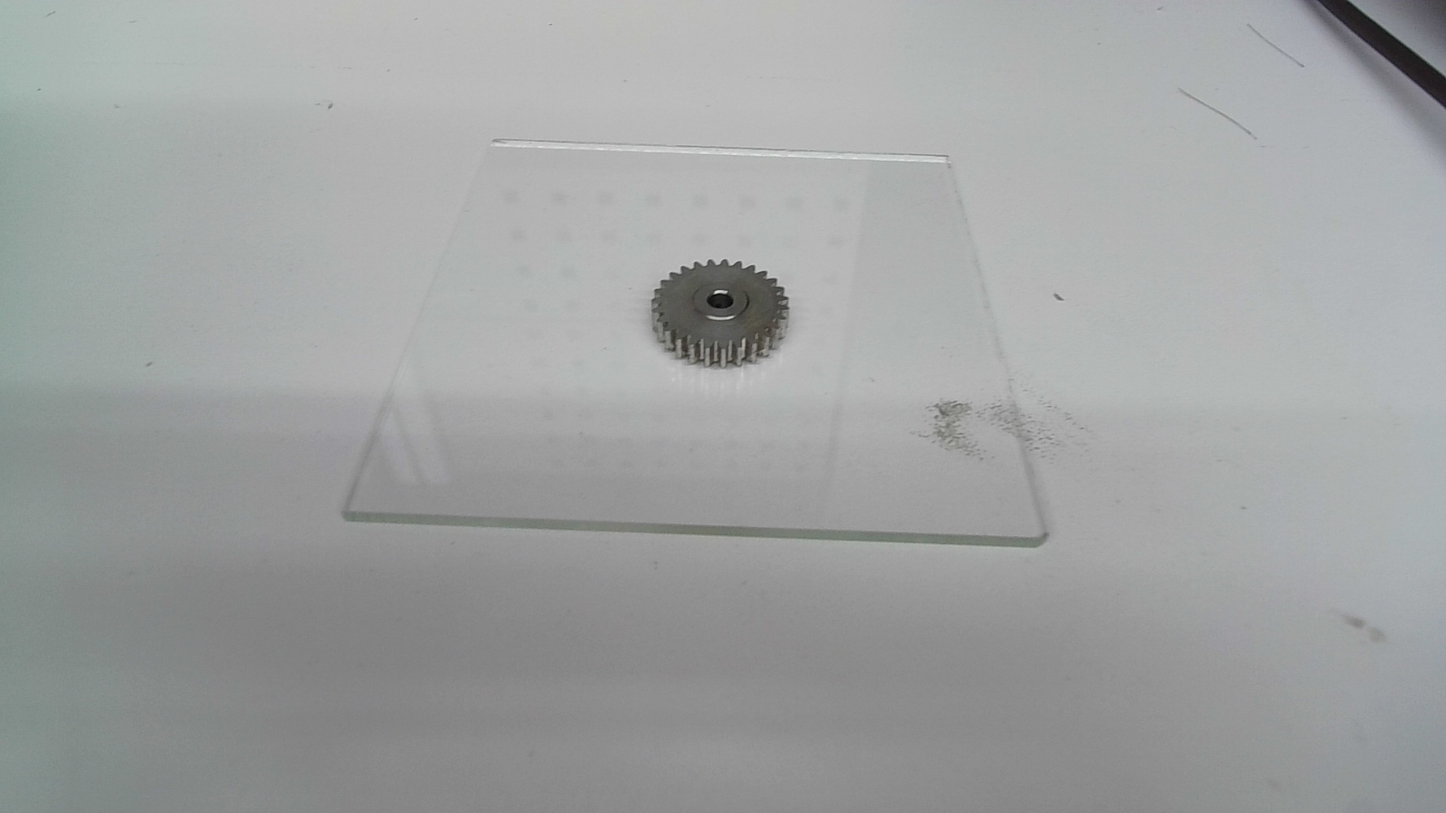gear: (646, 256, 793, 373)
